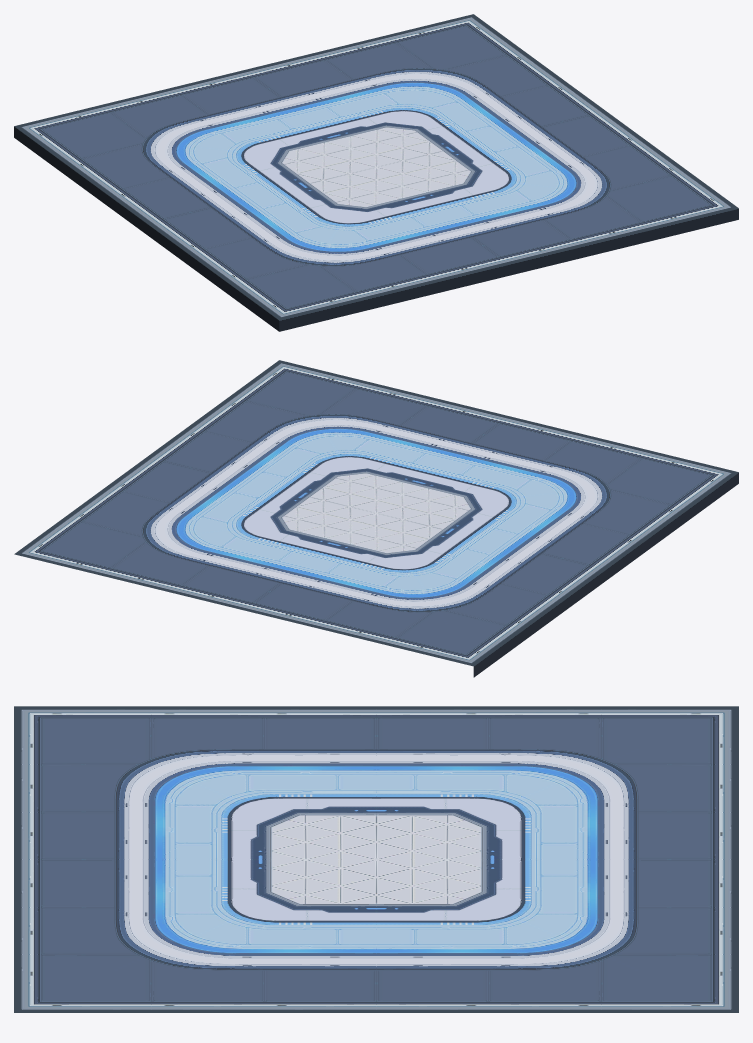
File: my_millenniumlounge_01_tile_20x20.glb
3 renders of one model, top to bottom at view 1: azimuth 30°, elevation 25°; view 2: azimuth 150°, elevation 25°; view 3: azimuth 270°, elevation 25°, orthographic. The views are drawn at different scales.
Visible parts, largest first — view 1: my_millenniumlounge_01_tile_20x20; view 2: my_millenniumlounge_01_tile_20x20; view 3: my_millenniumlounge_01_tile_20x20.
Boxes of the visible parts, x1=… form: my_millenniumlounge_01_tile_20x20: x1=14, y1=14, x2=738, y2=331; my_millenniumlounge_01_tile_20x20: x1=14, y1=360, x2=738, y2=677; my_millenniumlounge_01_tile_20x20: x1=14, y1=706, x2=738, y2=1012.
Size of the model in its own units: 0.12 by 0.00285 by 0.12.
Materials: 1 (1 with a texture image).
